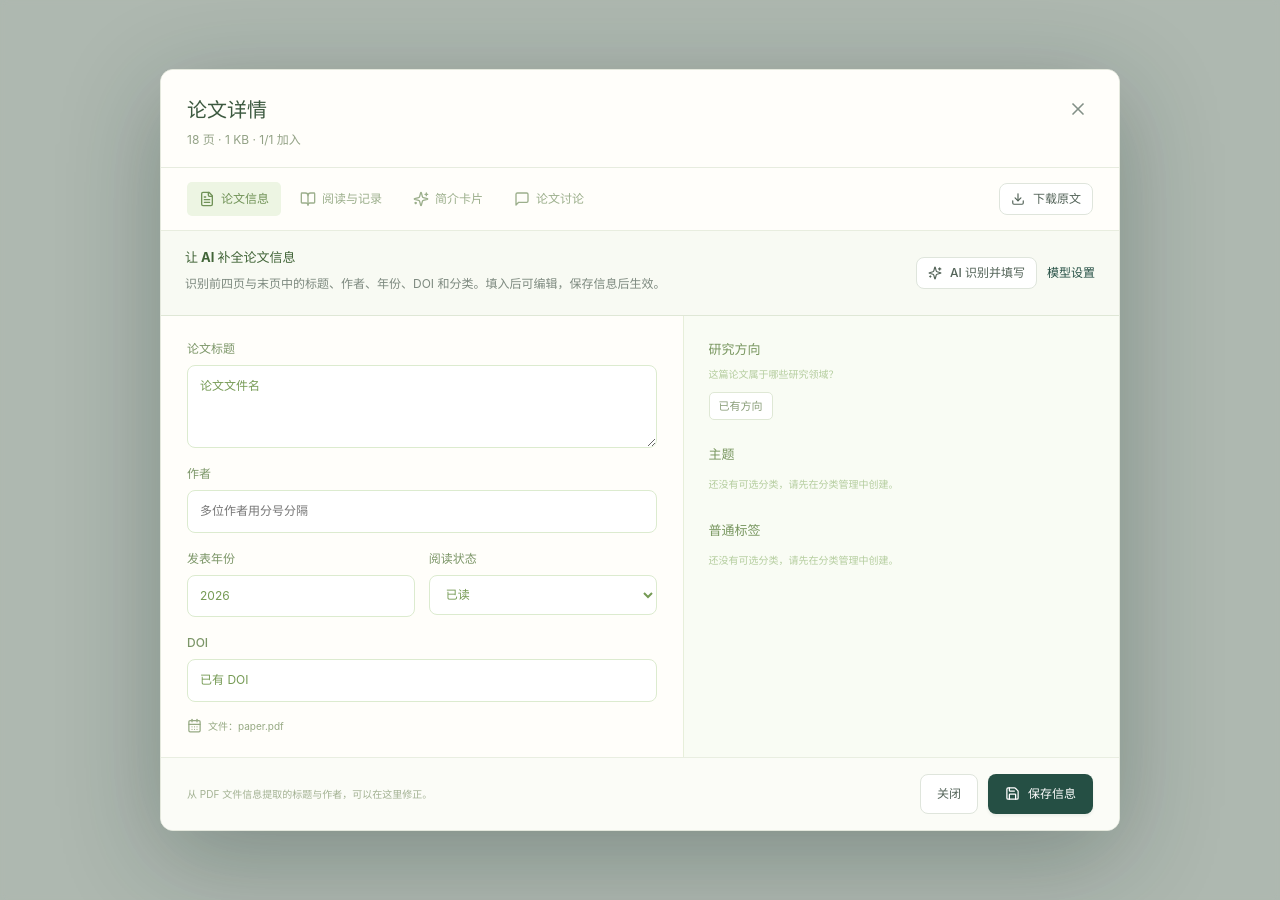
Test: 等待识别时的人工标题和分类编辑不会被结果覆盖
Click the button "AI 识别并填写".
click(976, 273)  # box [916,257,1037,289]
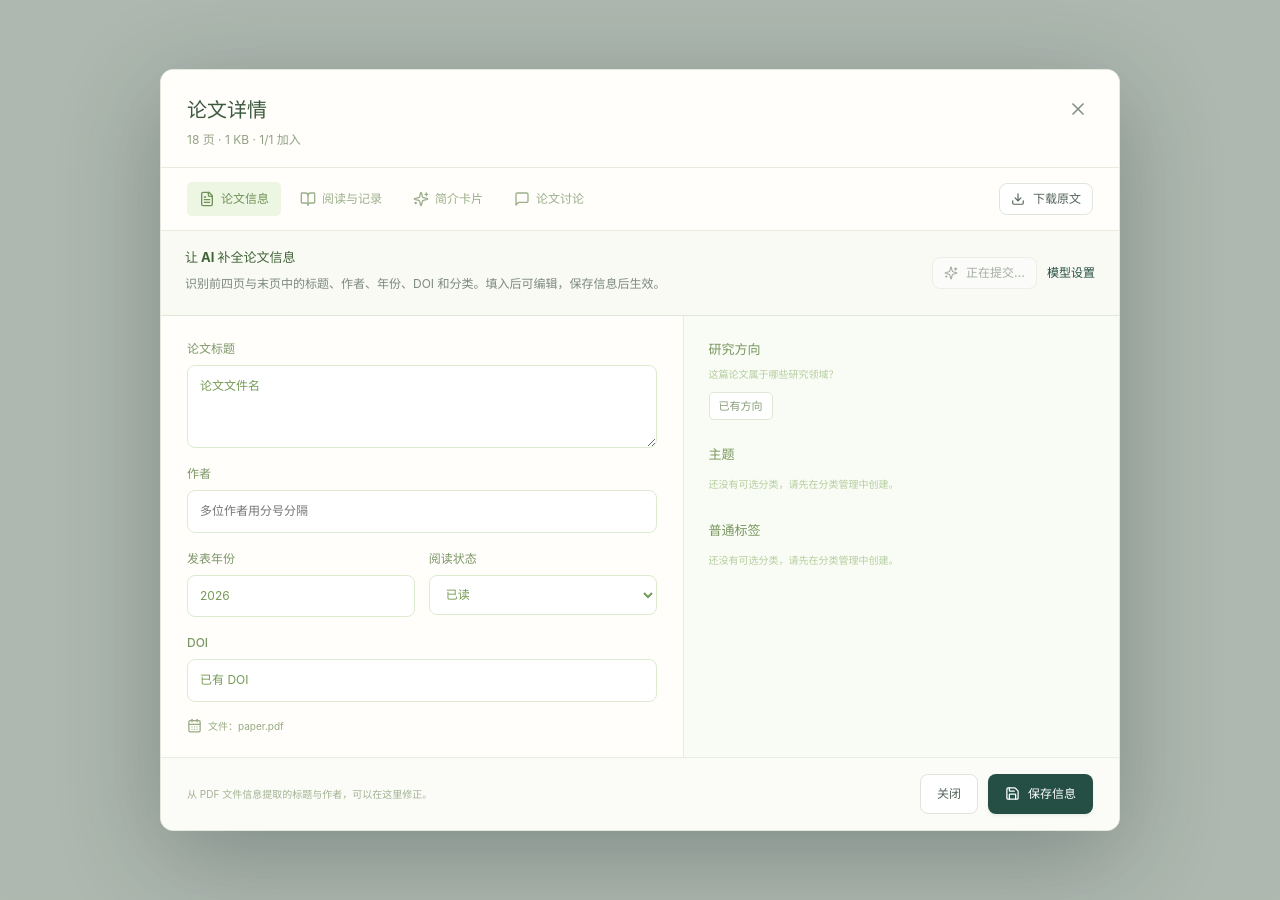
Replace the text in the text box labelled "论文标题" with "等待时手工修改的标题" at (422, 406), box [187,365,656,448]
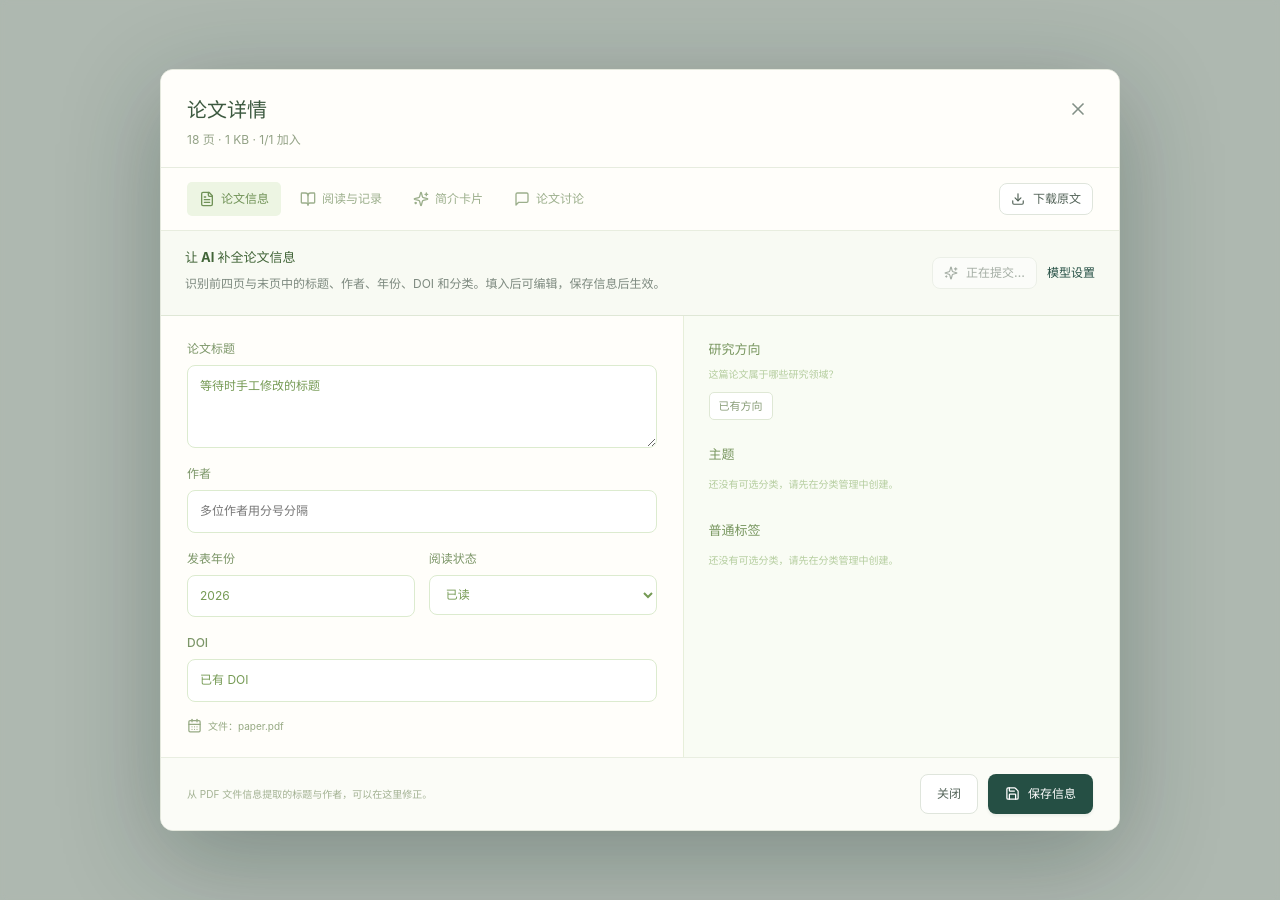
Click the button "已有方向".
click(740, 406)  # box [708,392,772,420]
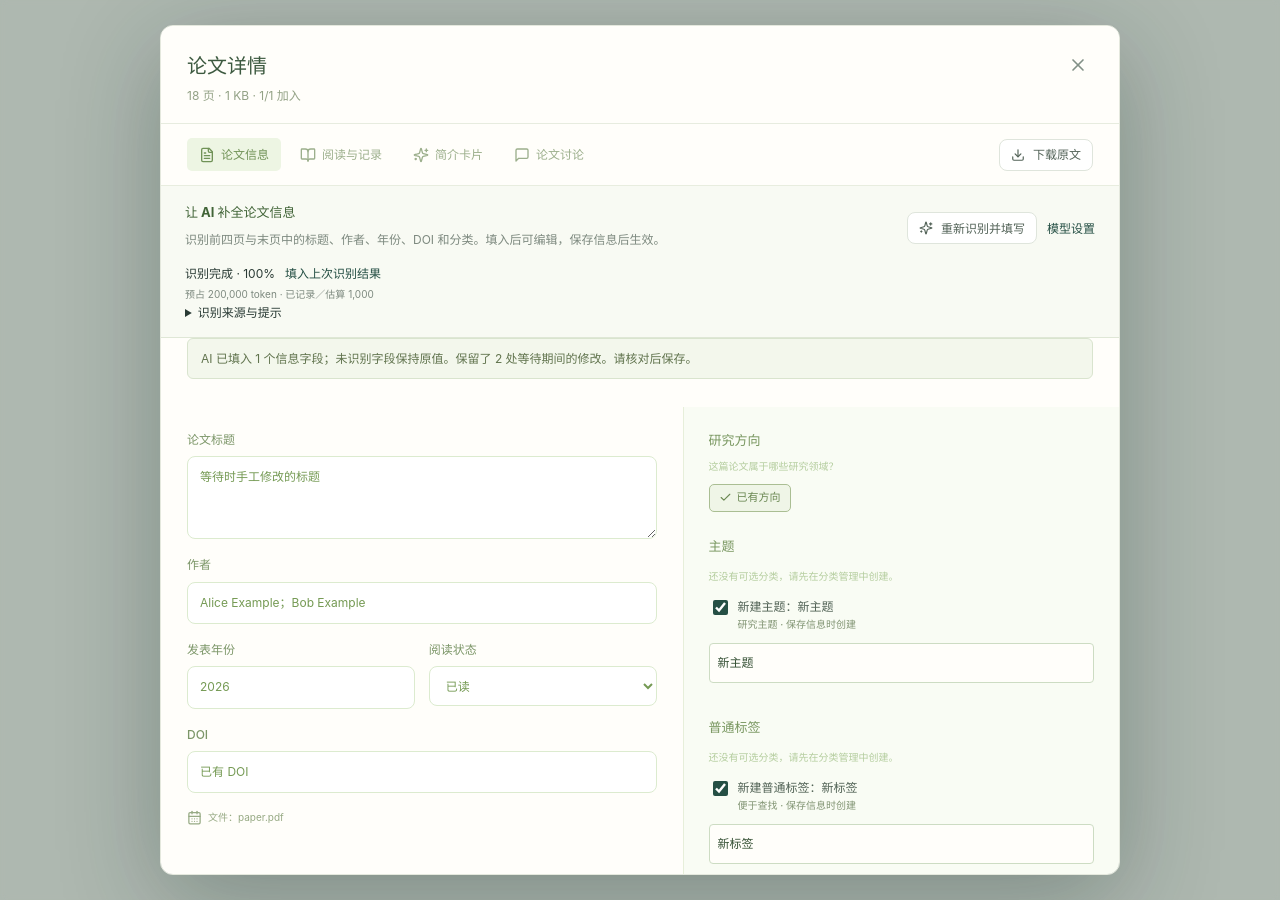
Result: the message shows "等待期间的修改" at [201,351,698,366]
